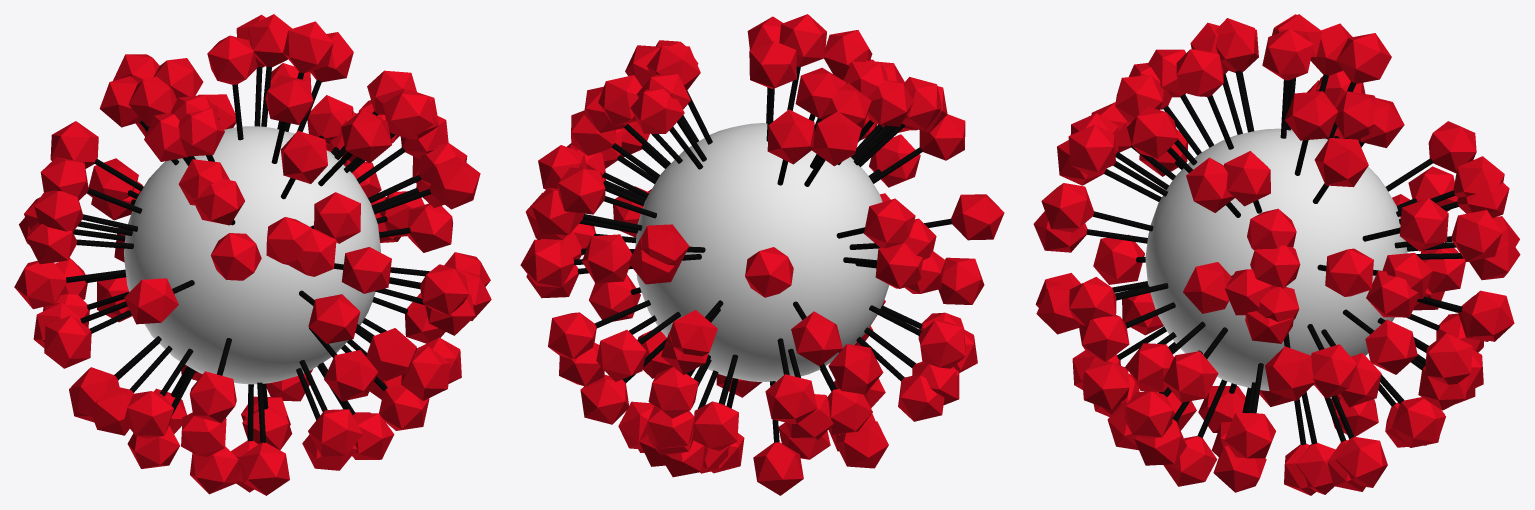
Rendered from VirusEnemyAnim.fbx.
The picture shows the model from 3 angles, left to right: view 1: azimuth 30°, elevation 25°; view 2: azimuth 150°, elevation 25°; view 3: azimuth 270°, elevation 25°; orthographic projection.
Parts seen in each view (by area): view 1: Sphere; view 2: Sphere; view 3: Sphere.
Part boxes in pixels (box(x1,y1,x2,y2)): Sphere: box(14, 14, 491, 495); Sphere: box(520, 14, 1004, 495); Sphere: box(1033, 14, 1520, 495).
Bounding box in the file's own units: 224 × 225 × 225.
